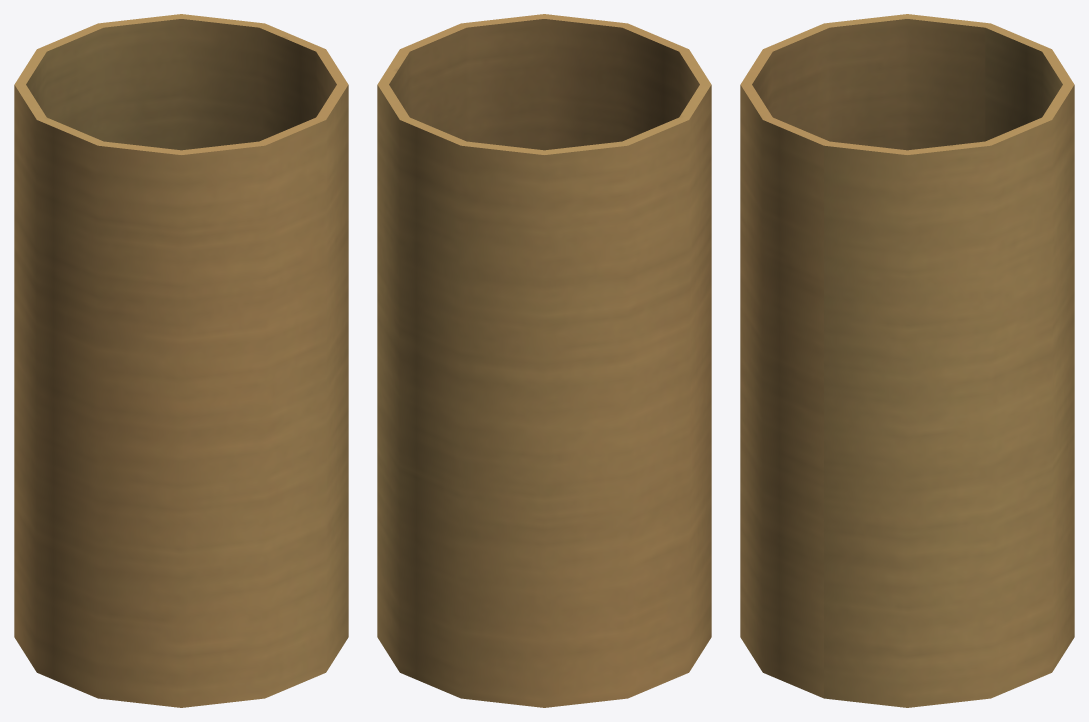
File: bulletShell.fbx
The picture shows the model from 3 angles, left to right: view 1: azimuth 30°, elevation 25°; view 2: azimuth 150°, elevation 25°; view 3: azimuth 270°, elevation 25°; orthographic projection.
Visible parts, largest first — view 1: bulletShell; view 2: bulletShell; view 3: bulletShell.
Boxes of the visible parts, <box> form: bulletShell: <box>14,14,348,707</box>; bulletShell: <box>377,14,711,707</box>; bulletShell: <box>740,14,1074,707</box>.
Size of the model in its own units: 0.0342 by 0.0624 by 0.0342.
1 material, 1 textured.
